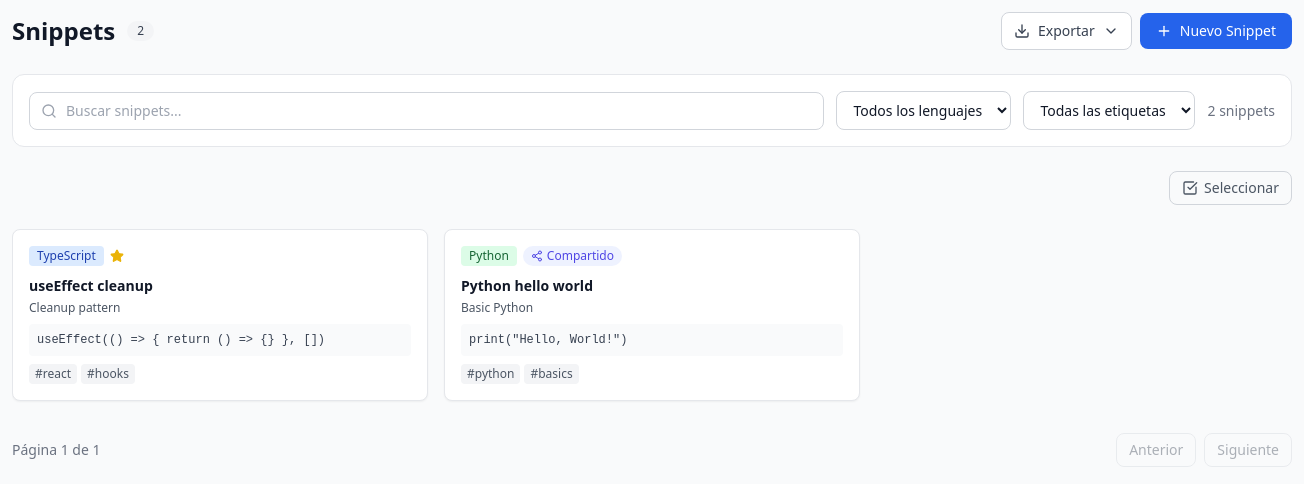
Test: SnippetsPage › filtra snippets por etiqueta
The image size is (1304, 484).
Select "react" in the dropdown named "Filtrar por etiqueta". click: [1110, 110]
box: left=1024, top=91, right=1196, bottom=130
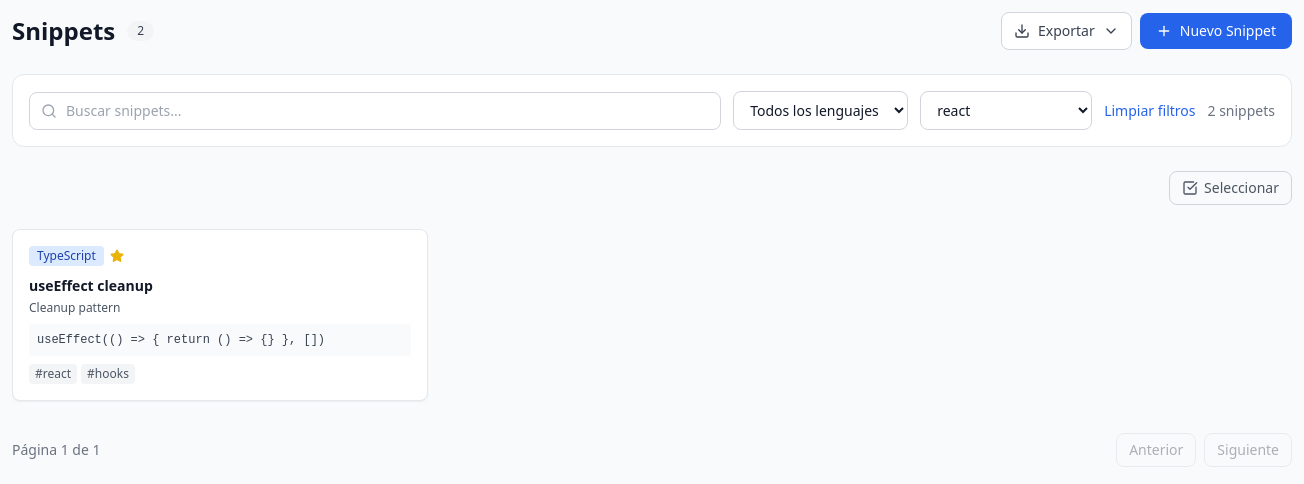
Expected: the heading "useEffect cleanup" is shown, left=29, top=276, right=153, bottom=295
Expected: the heading "Python hello world" is gone
